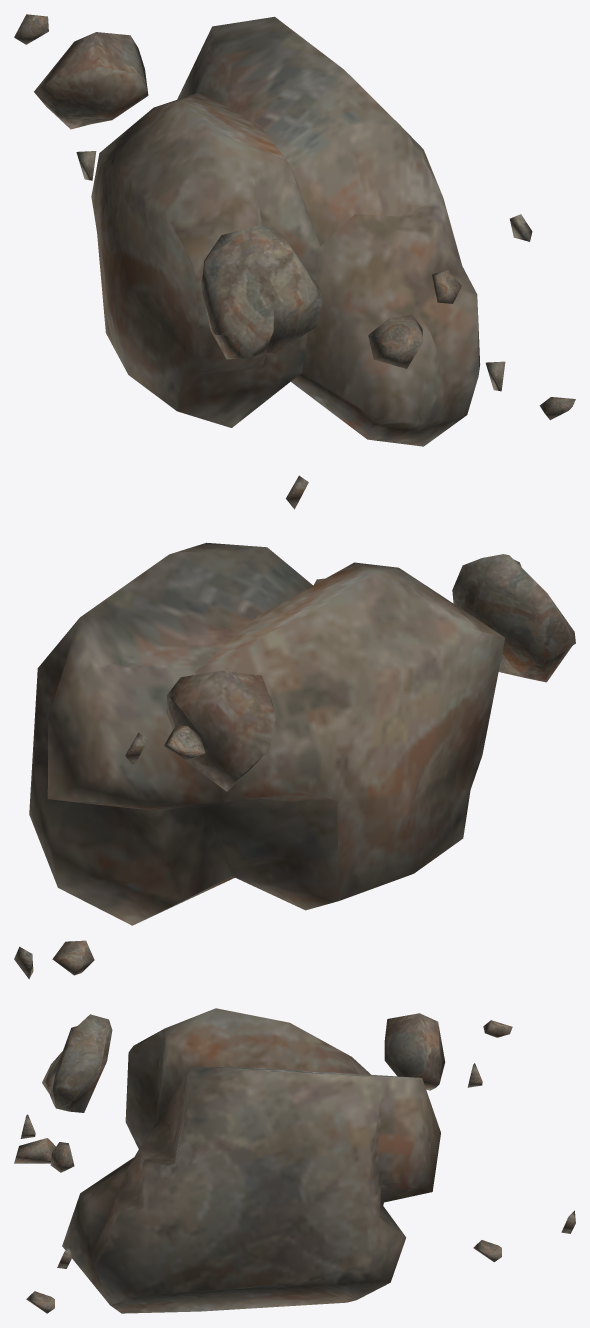
The model's file is bg_rad_kamen_rock02g_sm.obj.
3 renders of one model, top to bottom at view 1: azimuth 30°, elevation 25°; view 2: azimuth 150°, elevation 25°; view 3: azimuth 270°, elevation 25°, orthographic. The views are drawn at different scales.
Visible parts, largest first — view 1: bg_rad_kamen_rock02g_sm_0; view 2: bg_rad_kamen_rock02g_sm_0; view 3: bg_rad_kamen_rock02g_sm_0.
Boxes of the visible parts, x1,y1,x2,y2 form: bg_rad_kamen_rock02g_sm_0: (14,14,575,446); bg_rad_kamen_rock02g_sm_0: (14,475,575,979); bg_rad_kamen_rock02g_sm_0: (14,1008,575,1313).
Bounding box in the file's own units: 0.4968 × 0.429 × 0.8802.
1 material, 1 textured.
